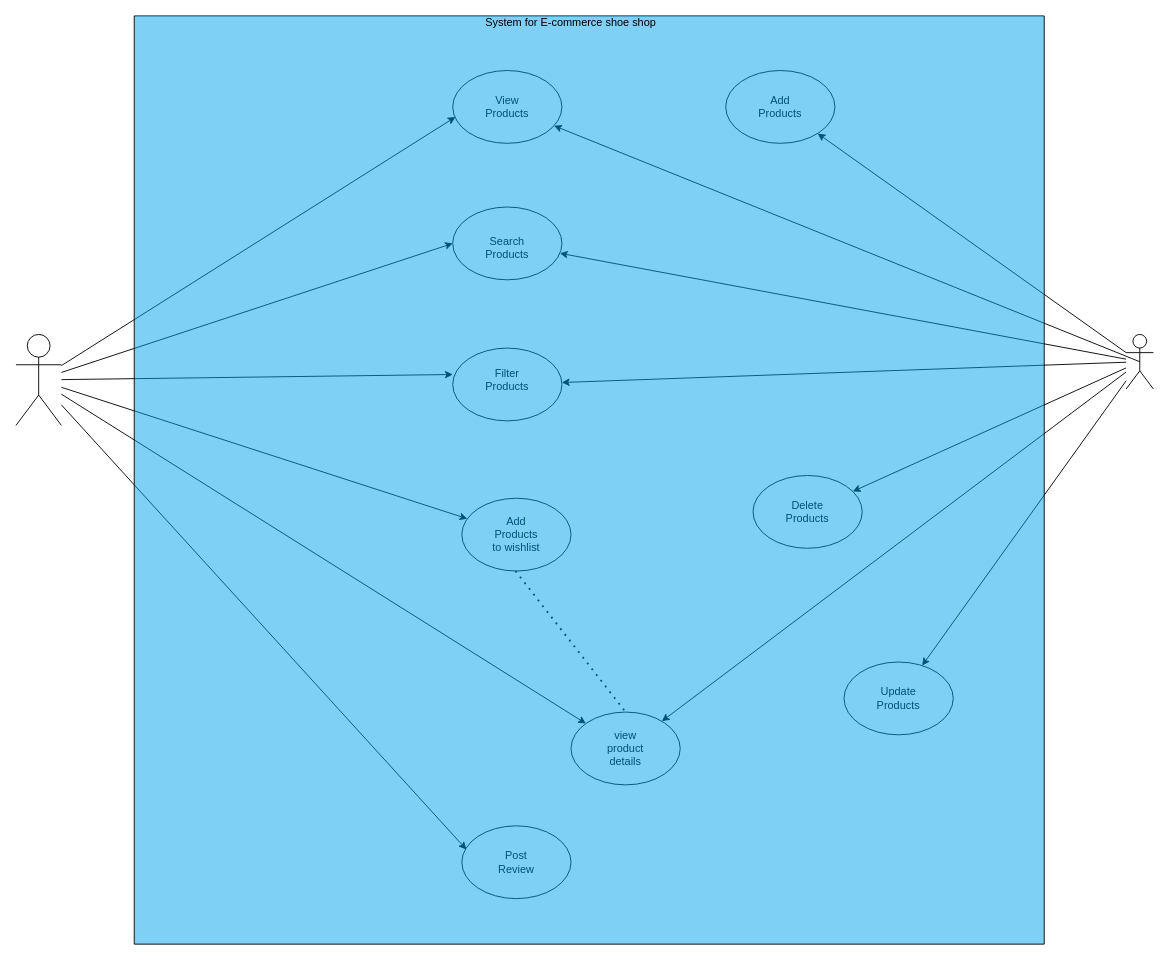
The diagram is 1171 pixels wide and 960 high, and some of its shapes have lost their labels. The centre of each missing label's shape, as x and y in pixels:
"Admin" belongs at pixel 1139 361.
"User" belongs at pixel 38 379.
